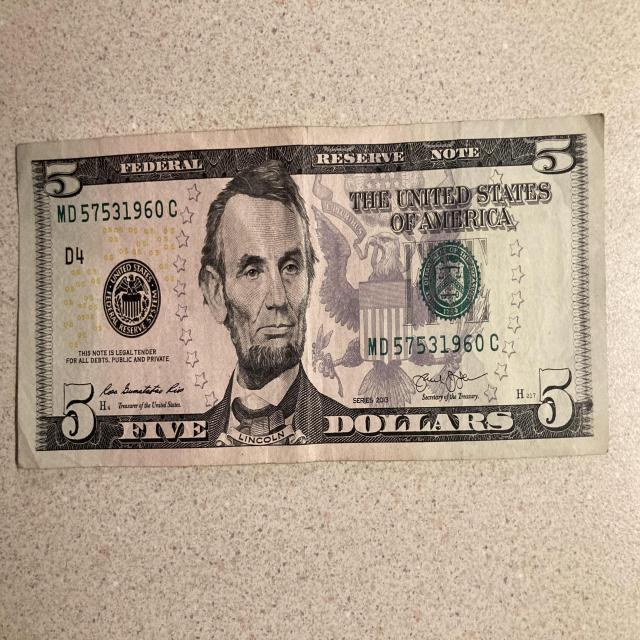five: (14, 111, 606, 470)
